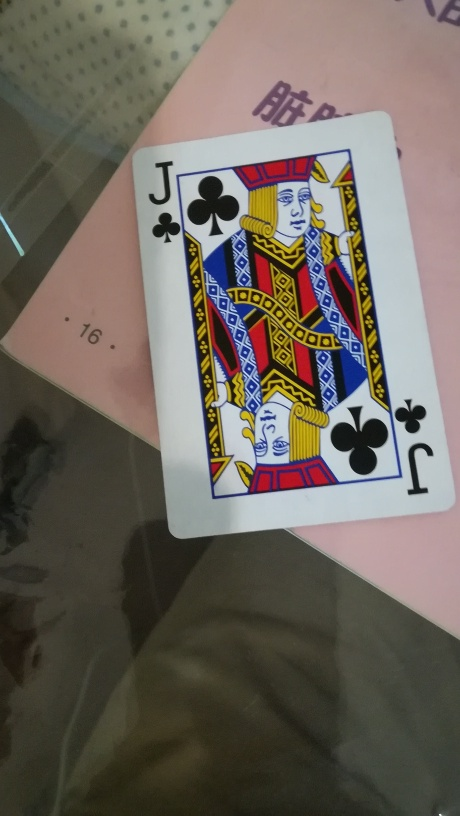mh j: (127, 109, 455, 538)
